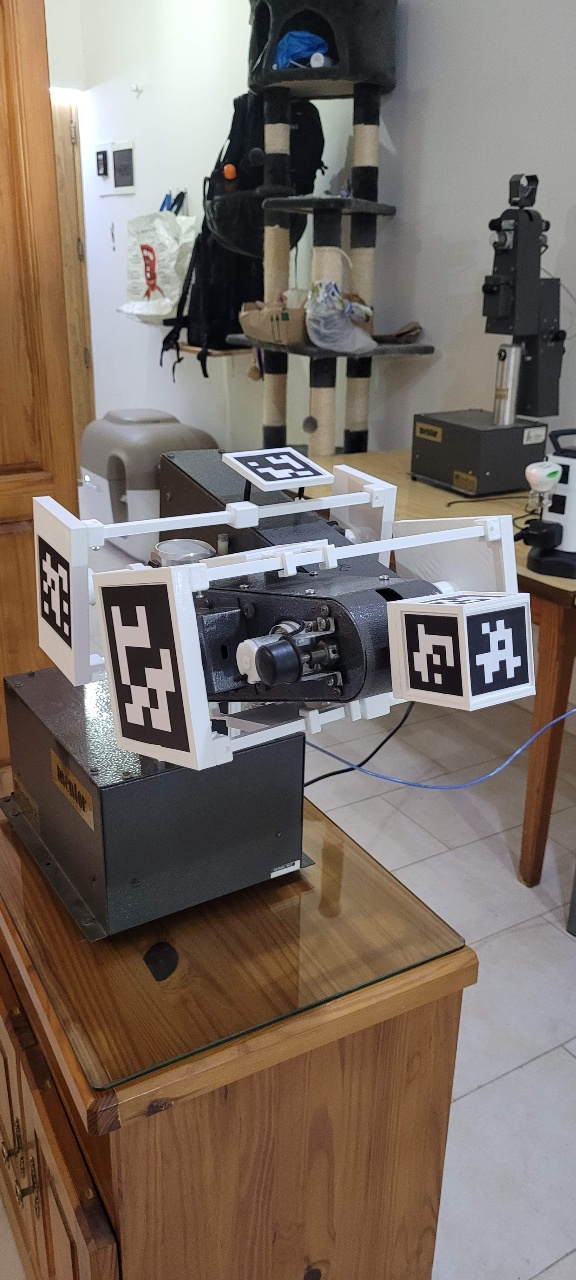Robot: (64, 137, 576, 1159)
